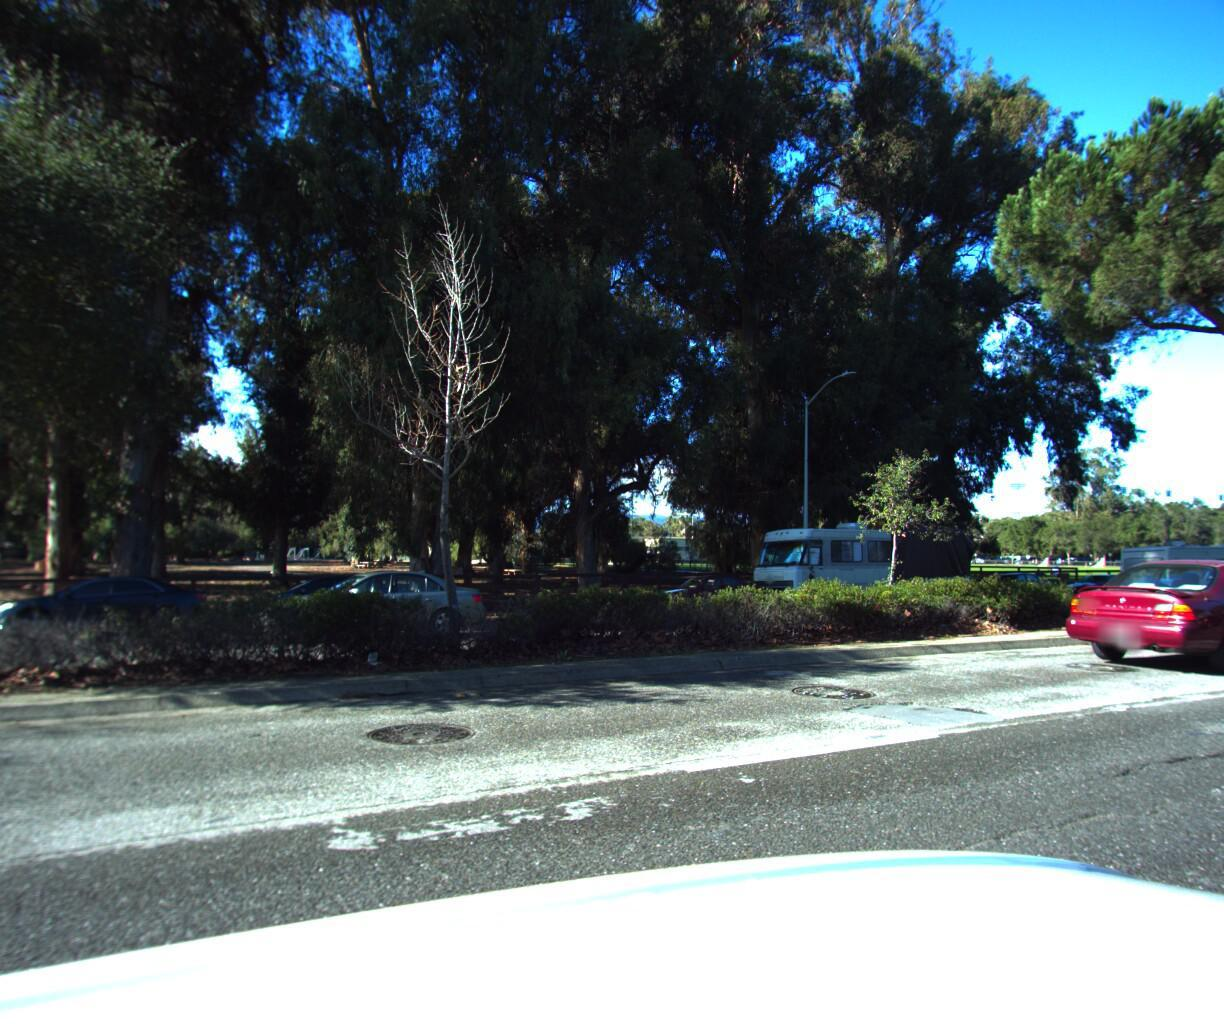car: (270, 568, 503, 675), (1047, 546, 1224, 674), (0, 571, 215, 640), (230, 570, 415, 630), (636, 567, 769, 611), (1128, 546, 1224, 600), (956, 565, 1054, 599), (1049, 566, 1133, 597), (1206, 553, 1224, 589)
other_vehicle: (739, 511, 973, 606), (1099, 531, 1224, 593)
